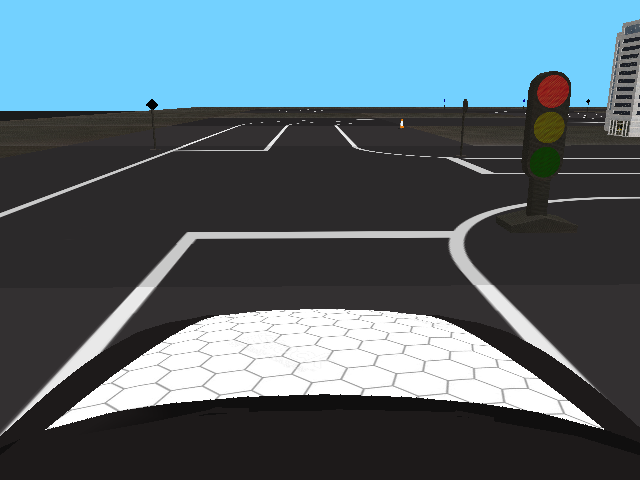red_light: (522, 70, 571, 180)
